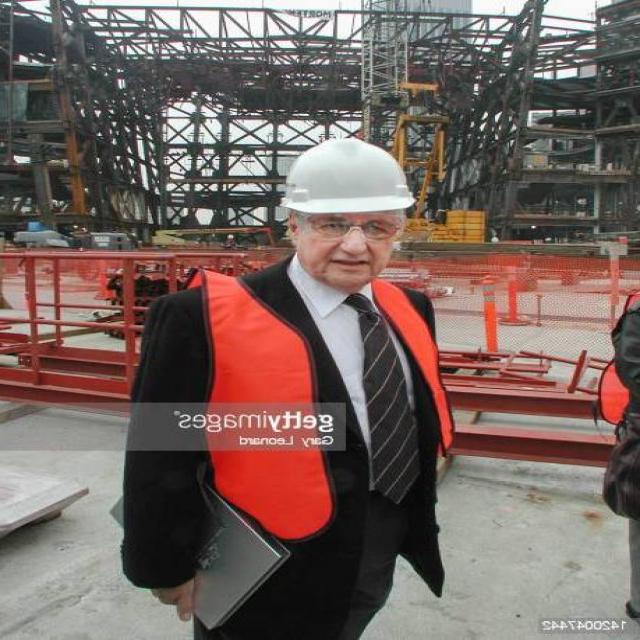Reflective-Jacket: (152, 266, 460, 544)
Safety-Helmet: (261, 132, 429, 226)
